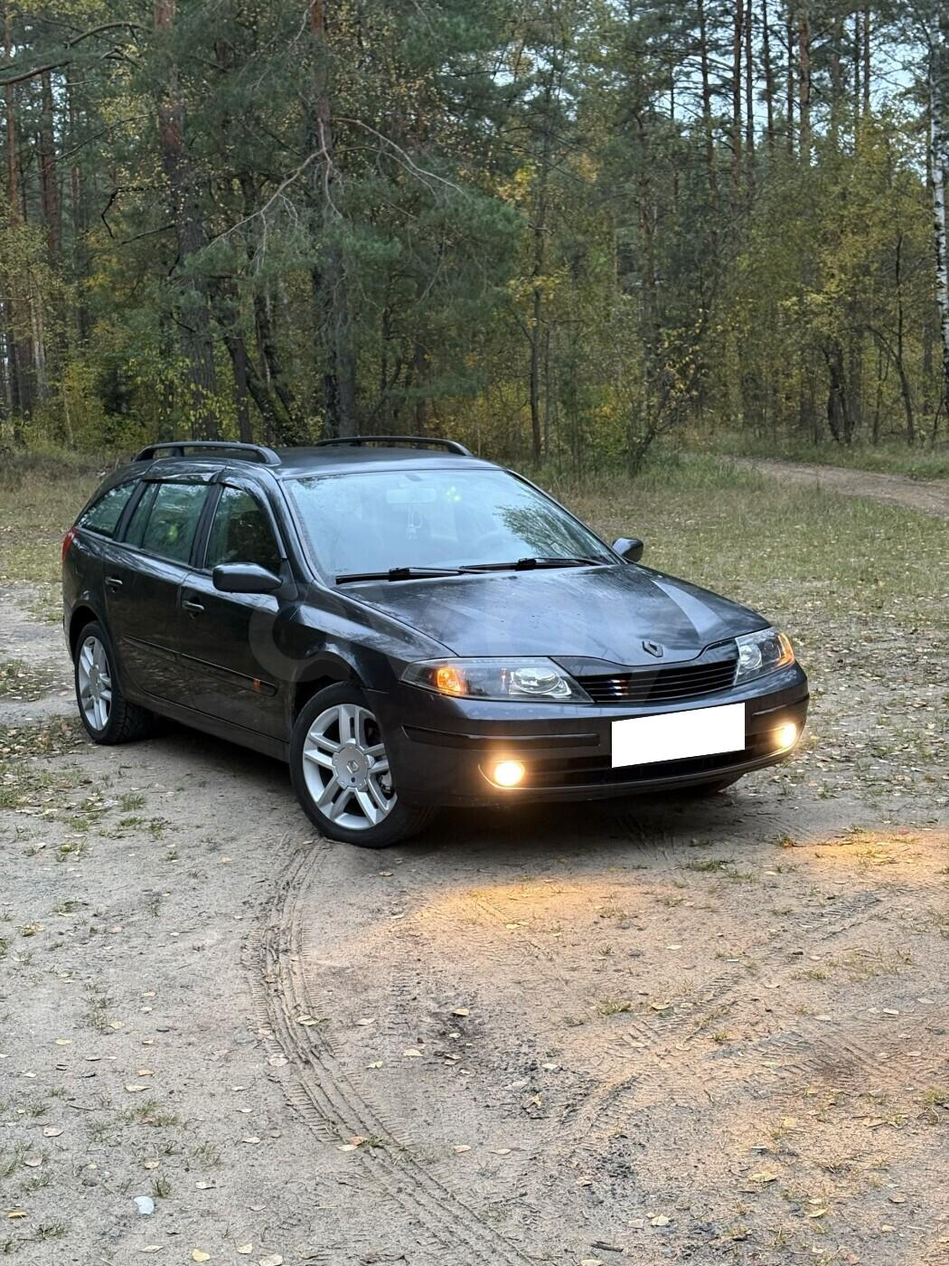Laguna_2001-2005: (63, 437, 809, 847)
